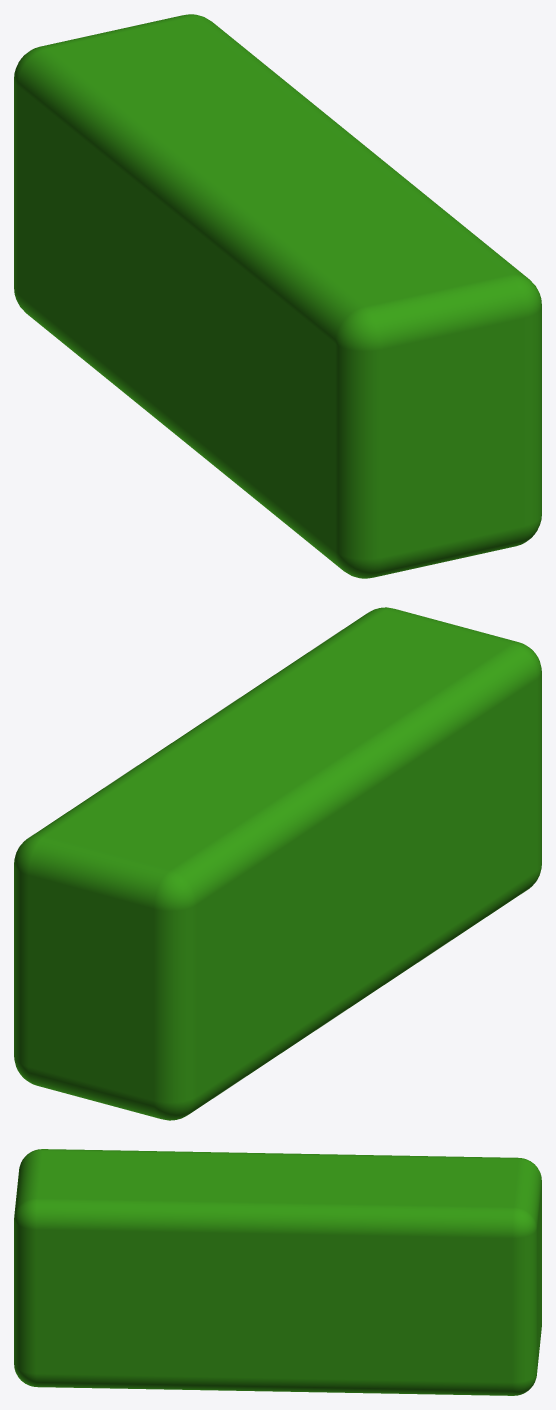
Rendered from Shrub_Short.fbx.
3 renders of one model, top to bottom at view 1: azimuth 30°, elevation 25°; view 2: azimuth 150°, elevation 25°; view 3: azimuth 270°, elevation 25°, orthographic. The views are drawn at different scales.
Visible parts, largest first — view 1: Box 13; view 2: Box 13; view 3: Box 13.
Boxes of the visible parts, x1,y1,x2,y2 form: Box 13: [14, 14, 541, 578]; Box 13: [14, 607, 541, 1120]; Box 13: [14, 1149, 541, 1395].
Bounding box in the file's own units: 3.05 × 3.5 × 8.97.
